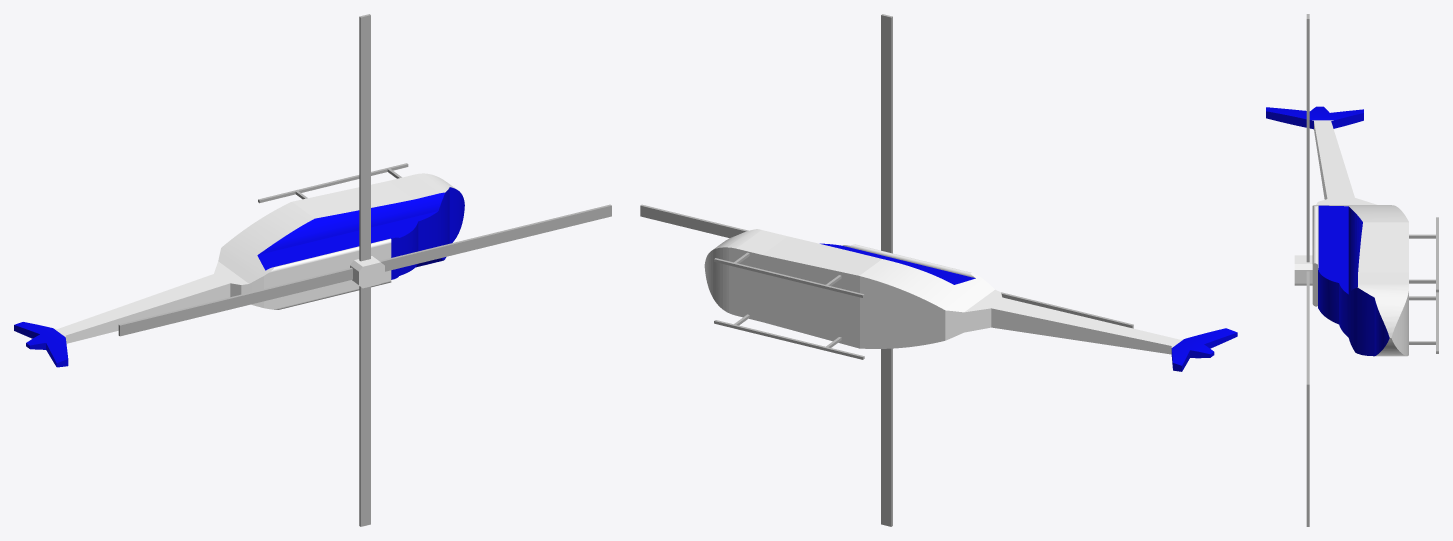
File: helicopter.dae
3 renders of one model, left to right at view 1: azimuth 30°, elevation 25°; view 2: azimuth 150°, elevation 25°; view 3: azimuth 270°, elevation 25°, orthographic.
Parts seen in each view (by area): view 1: coords_ME_ID3_MA_Color_000, coords_ME_ID33_MA_Color_I01, coords_ME_ID57_MA_Color_002, coords_ME_ID63_MA_Color_002, coords_ME_ID51_MA_Color_002, coords_ME_ID19_MA_Color_002, coords_ME_ID25_MA_Color_I01, coords_ME_ID39_MA_Color_000, coords_ME_ID45_MA_Color_002; view 2: coords_ME_ID3_MA_Color_000, coords_ME_ID51_MA_Color_002, coords_ME_ID19_MA_Color_002, coords_ME_ID25_MA_Color_I01, coords_ME_ID63_MA_Color_002, coords_ME_ID11_MA_Color_002, coords_ME_ID45_MA_Color_002, coords_ME_ID33_MA_Color_I01, coords_ME_ID57_MA_Color_002; view 3: coords_ME_ID3_MA_Color_000, coords_ME_ID33_MA_Color_I01, coords_ME_ID25_MA_Color_I01, coords_ME_ID51_MA_Color_002, coords_ME_ID39_MA_Color_000, coords_ME_ID19_MA_Color_002, coords_ME_ID63_MA_Color_002, coords_ME_ID45_MA_Color_002, coords_ME_ID11_MA_Color_002.
Boxes of the visible parts, x1=… form: coords_ME_ID3_MA_Color_000: x1=54, y1=173, x2=456, y2=343; coords_ME_ID33_MA_Color_I01: x1=257, y1=187, x2=464, y2=279; coords_ME_ID57_MA_Color_002: x1=118, y1=267, x2=352, y2=336; coords_ME_ID63_MA_Color_002: x1=379, y1=204, x2=611, y2=271; coords_ME_ID51_MA_Color_002: x1=359, y1=14, x2=370, y2=261; coords_ME_ID19_MA_Color_002: x1=359, y1=286, x2=370, y2=526; coords_ME_ID25_MA_Color_I01: x1=14, y1=322, x2=68, y2=367; coords_ME_ID39_MA_Color_000: x1=350, y1=256, x2=384, y2=288; coords_ME_ID45_MA_Color_002: x1=258, y1=163, x2=408, y2=203; coords_ME_ID3_MA_Color_000: x1=704, y1=229, x2=1183, y2=354; coords_ME_ID51_MA_Color_002: x1=881, y1=14, x2=892, y2=253; coords_ME_ID19_MA_Color_002: x1=881, y1=348, x2=892, y2=526; coords_ME_ID25_MA_Color_I01: x1=1171, y1=328, x2=1237, y2=371; coords_ME_ID63_MA_Color_002: x1=640, y1=204, x2=748, y2=238; coords_ME_ID11_MA_Color_002: x1=714, y1=314, x2=864, y2=359; coords_ME_ID45_MA_Color_002: x1=714, y1=252, x2=864, y2=297; coords_ME_ID33_MA_Color_I01: x1=820, y1=243, x2=975, y2=284; coords_ME_ID57_MA_Color_002: x1=1001, y1=292, x2=1133, y2=328; coords_ME_ID3_MA_Color_000: x1=1312, y1=120, x2=1408, y2=356; coords_ME_ID33_MA_Color_I01: x1=1318, y1=205, x2=1389, y2=356; coords_ME_ID25_MA_Color_I01: x1=1266, y1=106, x2=1363, y2=129; coords_ME_ID51_MA_Color_002: x1=1306, y1=14, x2=1309, y2=262; coords_ME_ID39_MA_Color_000: x1=1294, y1=255, x2=1312, y2=285; coords_ME_ID19_MA_Color_002: x1=1306, y1=395, x2=1309, y2=526; coords_ME_ID63_MA_Color_002: x1=1306, y1=271, x2=1309, y2=395; coords_ME_ID45_MA_Color_002: x1=1409, y1=217, x2=1438, y2=292; coords_ME_ID11_MA_Color_002: x1=1409, y1=292, x2=1438, y2=353.
Size of the model in its own units: 40.38 by 34.05 by 10.5.
